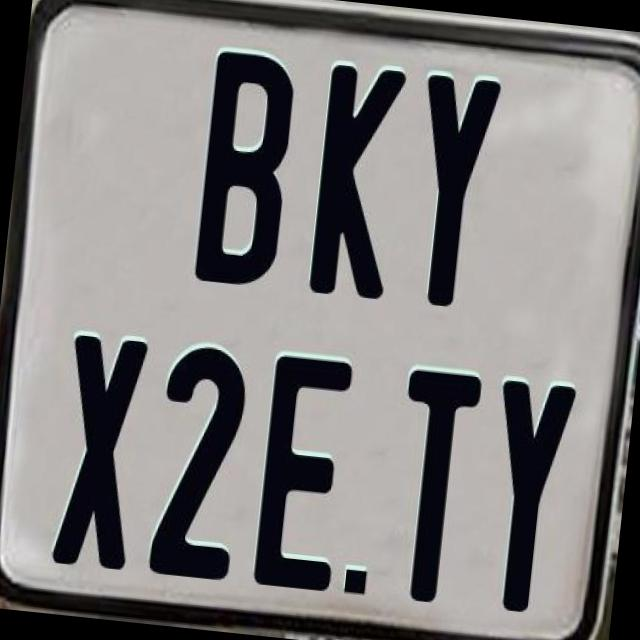2: (143, 340, 247, 584)
B: (190, 45, 302, 292)
E: (250, 354, 352, 592)
K: (306, 62, 406, 301)
T: (383, 367, 485, 606)
X: (49, 330, 154, 570)
Y: (477, 379, 577, 621), (402, 73, 501, 310)
